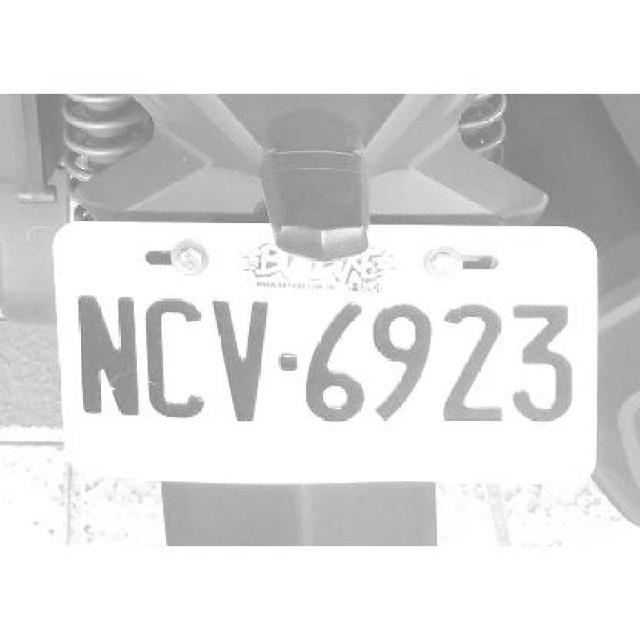-: (277, 351, 297, 369)
2: (440, 300, 506, 426)
3: (510, 299, 572, 423)
6: (300, 298, 366, 424)
9: (368, 299, 434, 423)
C: (146, 295, 212, 423)
N: (74, 290, 141, 416)
V: (212, 296, 272, 424)
